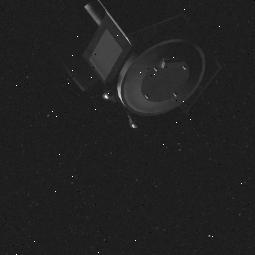cheops: (52, 3, 212, 122)
